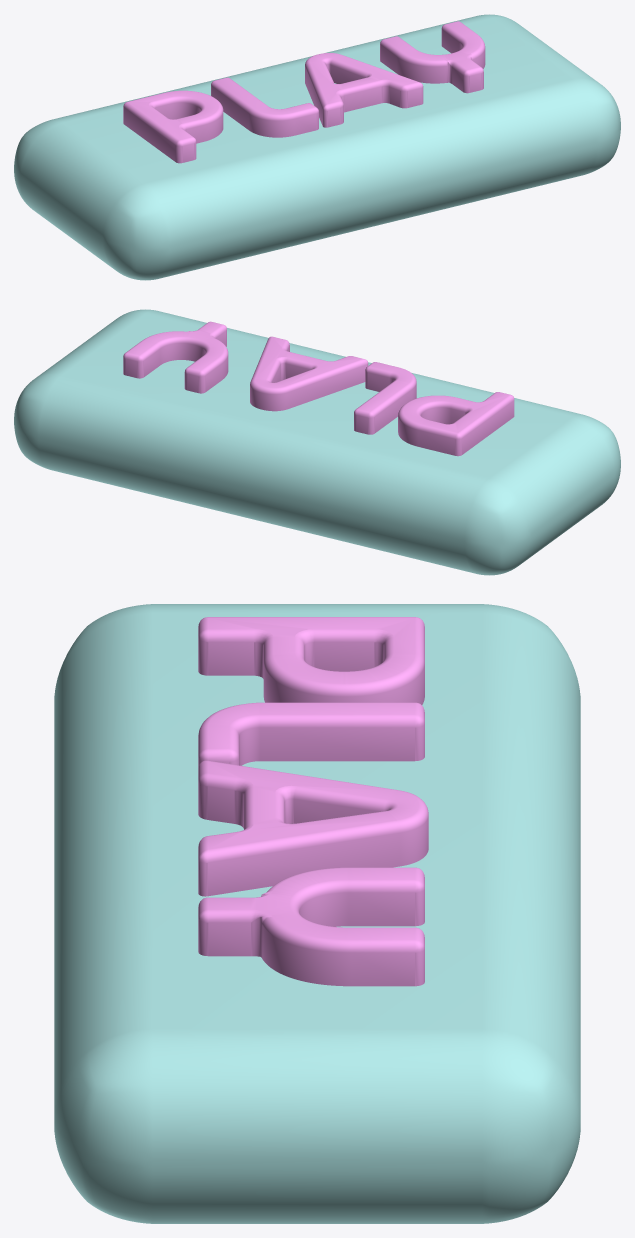
Rendered from btn.gltf.
3 views of the same model, one above another, from view 1: azimuth 30°, elevation 25°; view 2: azimuth 150°, elevation 25°; view 3: azimuth 270°, elevation 25° (orthographic). The views are drawn at different scales.
Visible parts, largest first — view 1: Cube, A, P, Y, L; view 2: Cube, A, P, Y, L; view 3: Cube, A, Y, P, L.
Part boxes in pixels (bbox=[...]): Cube: bbox=[14, 14, 620, 280]; A: bbox=[305, 53, 423, 127]; P: bbox=[123, 90, 223, 163]; Y: bbox=[380, 21, 485, 93]; L: bbox=[211, 77, 318, 137]; Cube: bbox=[14, 309, 620, 575]; A: bbox=[250, 336, 368, 411]; P: bbox=[398, 392, 514, 456]; Y: bbox=[123, 321, 228, 393]; L: bbox=[354, 362, 416, 434]; Cube: bbox=[54, 604, 580, 1223]; A: bbox=[198, 760, 428, 896]; Y: bbox=[198, 867, 424, 986]; P: bbox=[198, 617, 424, 704]; L: bbox=[198, 702, 424, 767].
Bounding box in the file's own units: 479 × 102 × 214.
